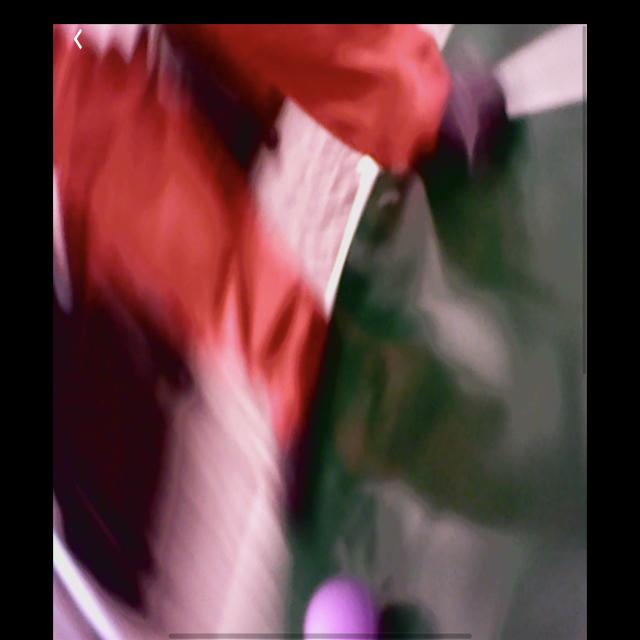ball: (304, 575, 382, 639)
